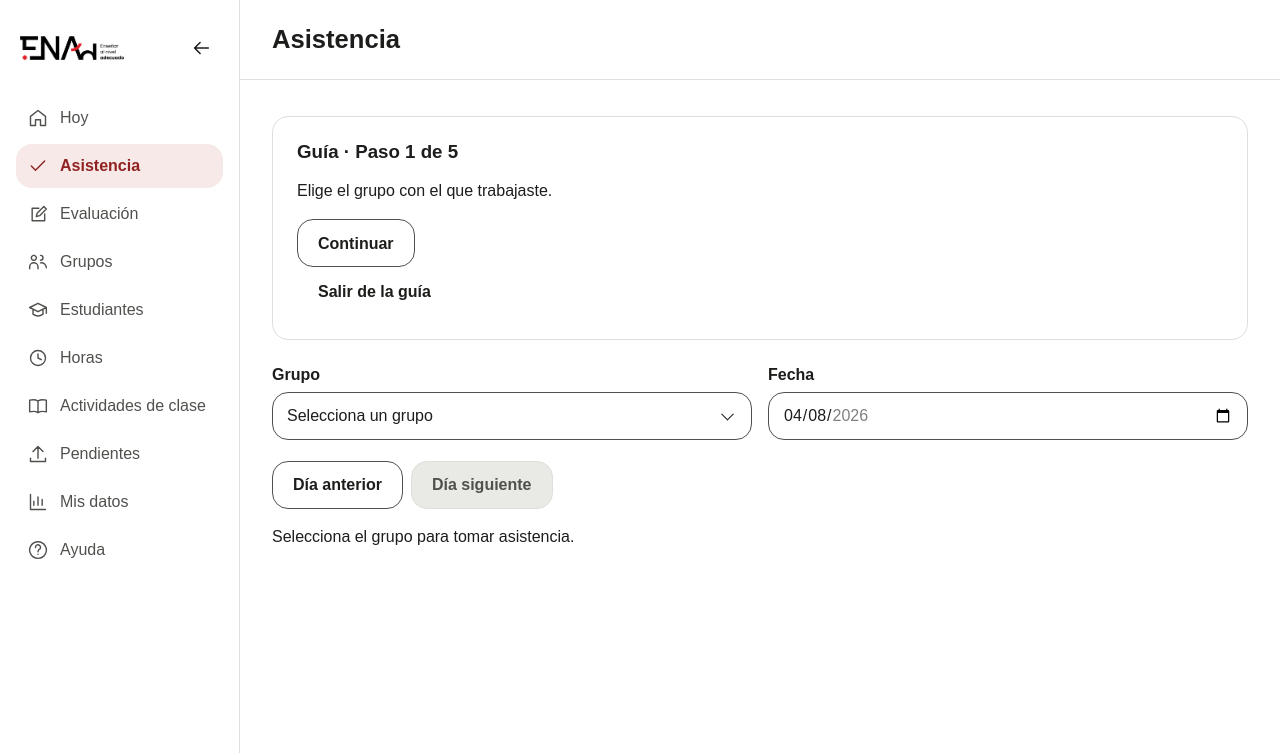
Test: guía el registro sobre el formulario y exige seleccionar un grupo antes de avanzar
Click the button "Continuar": (356, 244) [297,220,414,268]
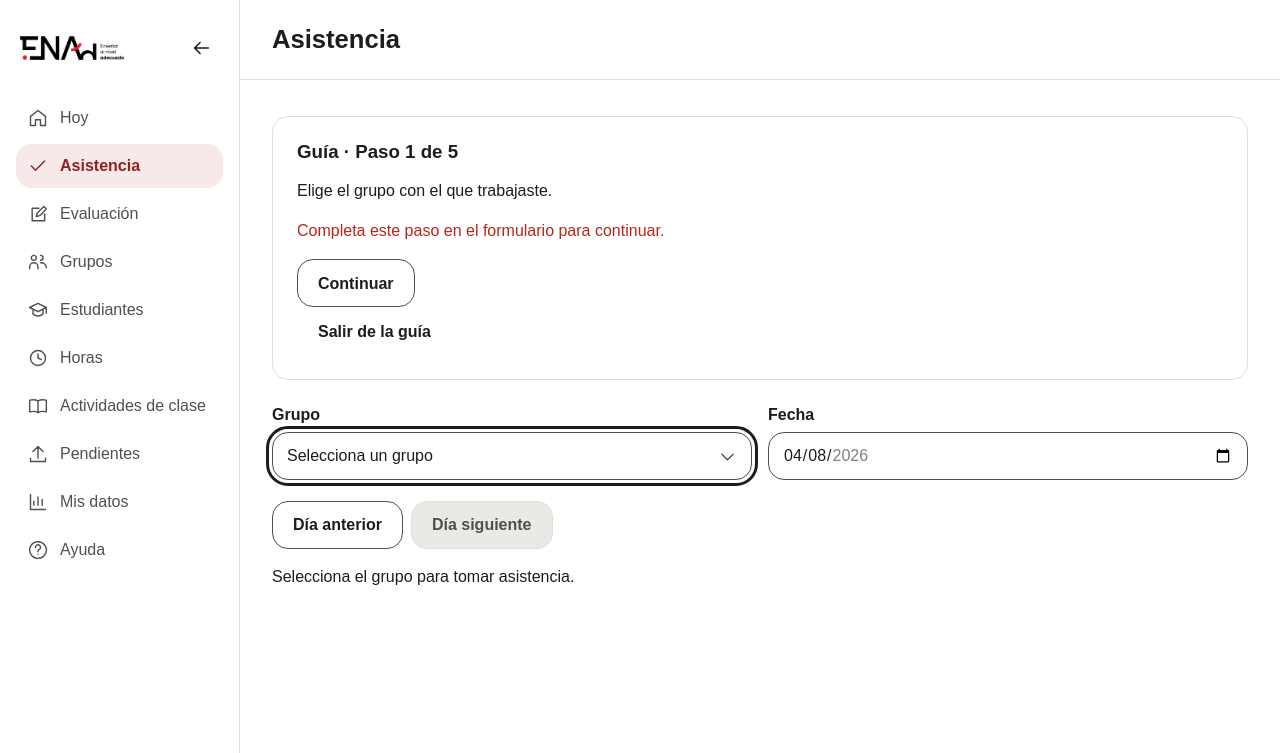
Expected: the message shows "Completa este paso", [297,222,664,240]
Select "Lectores de la mañana · Sede rural · Institución de prueba" in the dropdown labelled "Grupo": (512, 456) [272,432,752,480]
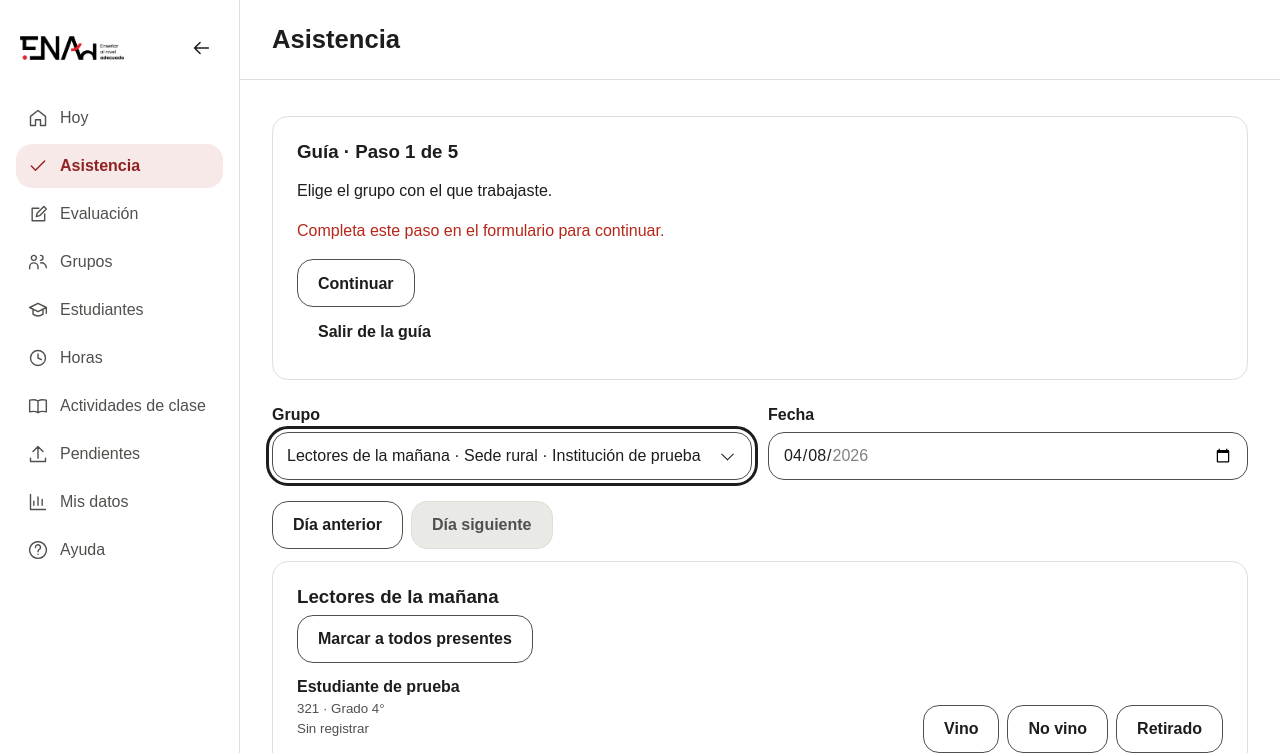
Click the button "Continuar": (356, 284) [297,260,414,308]
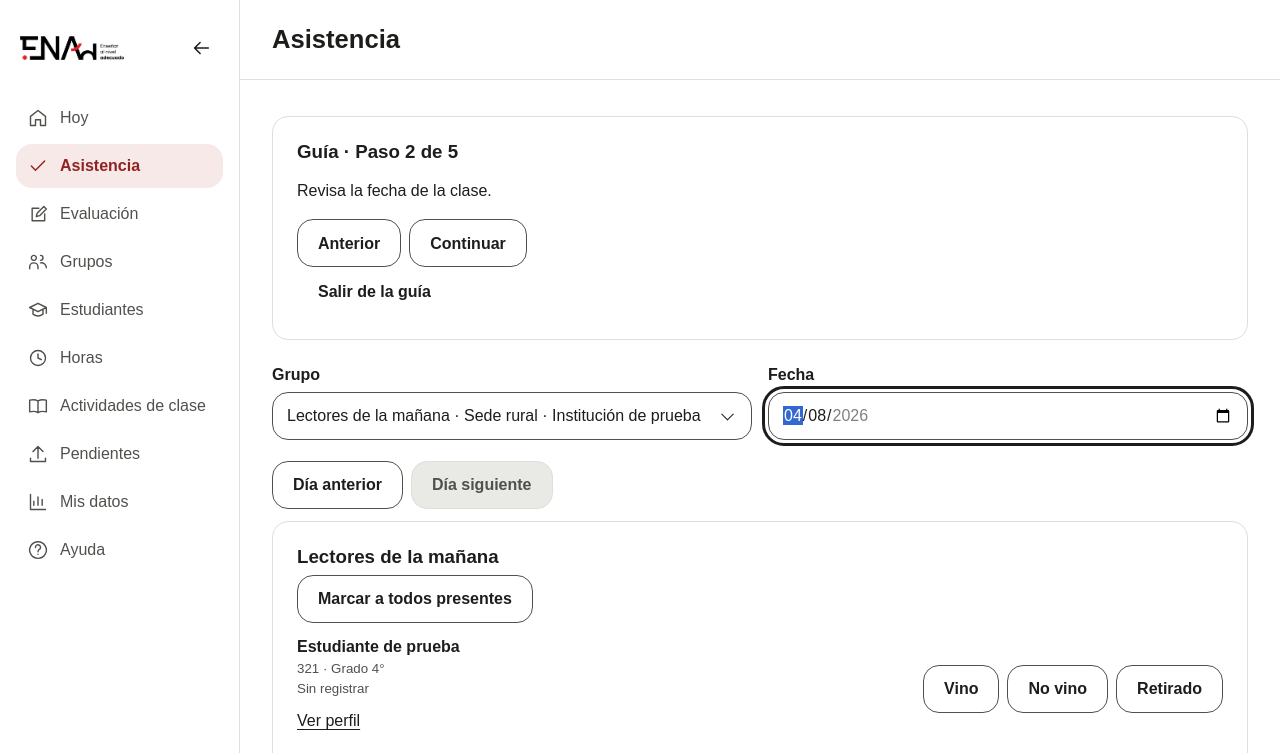
Expected: the element named "Guía de registro" shows "Revisa la fecha", [297,182,492,200]
